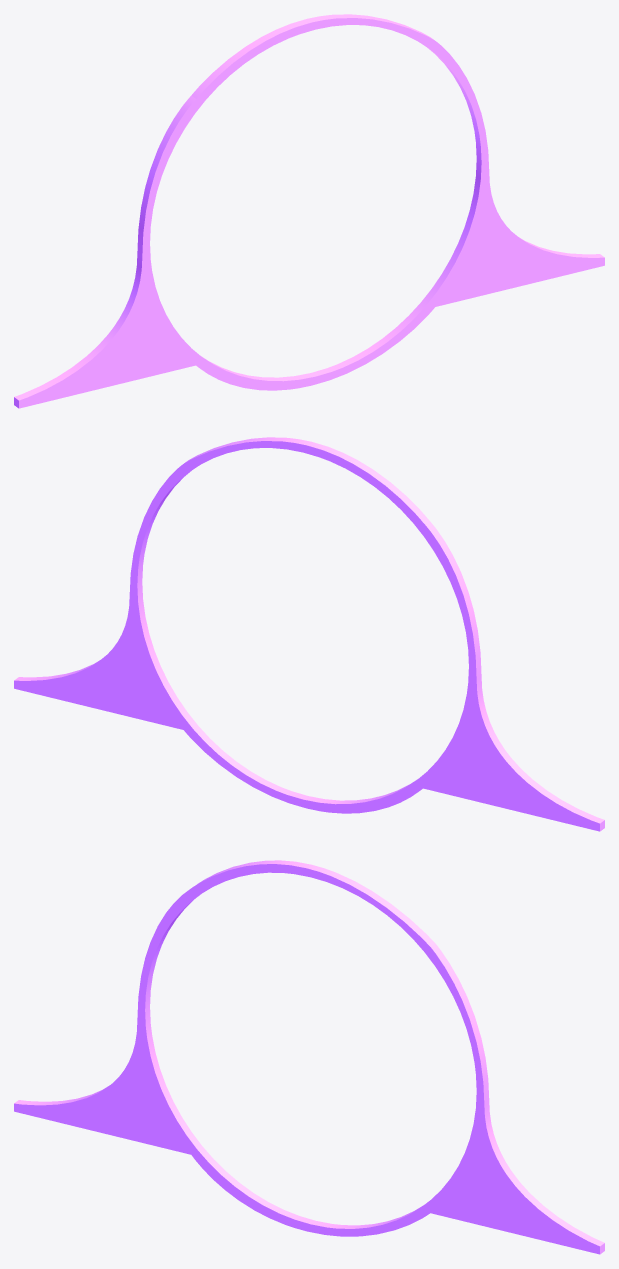
The model's file is big hoop.fbx.
3 renders of one model, top to bottom at view 1: azimuth 30°, elevation 25°; view 2: azimuth 150°, elevation 25°; view 3: azimuth 330°, elevation 25°, orthographic.
Parts seen in each view (by area): view 1: Cap_1, Extrude_1; view 2: Cap_2, Extrude_1; view 3: Cap_1, Extrude_1.
Boxes of the visible parts, x1,y1,x2,y2 form: Cap_1: (19,18,604,408); Extrude_1: (14,14,604,408); Cap_2: (14,441,599,831); Extrude_1: (14,437,604,831); Cap_1: (14,864,599,1254); Extrude_1: (14,860,604,1254).
Bounding box in the file's own units: 3078 × 1822 × 45.
